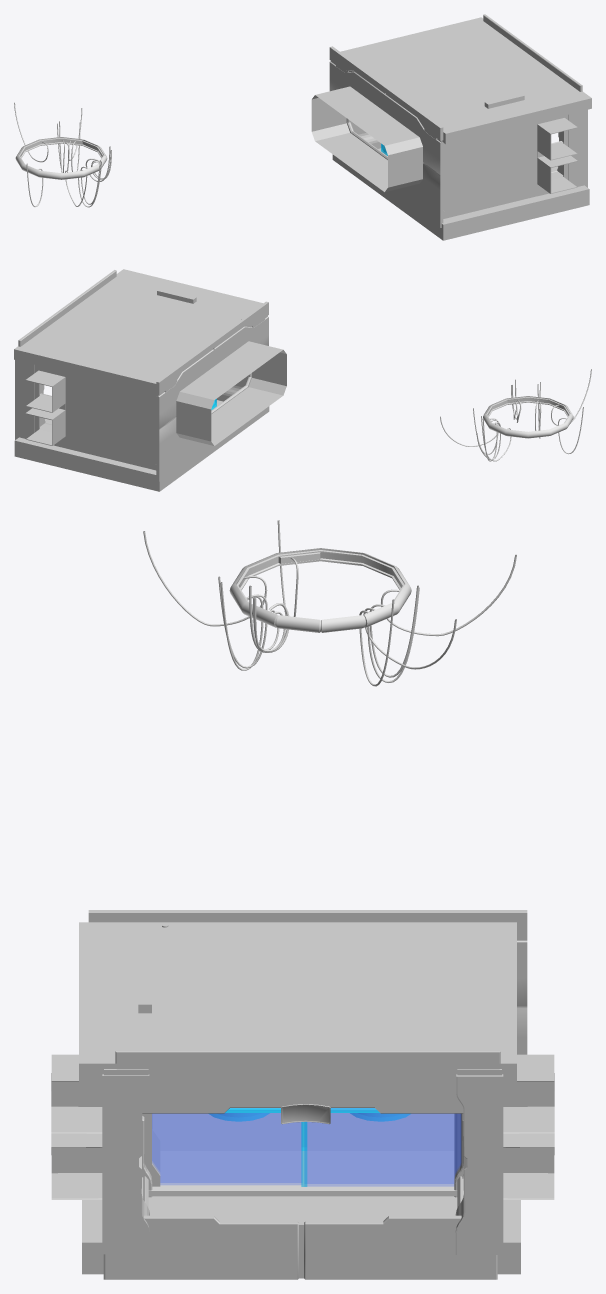
The model's file is Factory_basescene.fbx.
3 views of the same model, one above another, from view 1: azimuth 30°, elevation 25°; view 2: azimuth 150°, elevation 25°; view 3: azimuth 270°, elevation 25° (orthographic). The views are drawn at different scales.
Parts seen in each view (by area): view 1: Cube.004, Cube.007, Cube.005, Cube.003, Cube, Cube.013, Cube.033, Torus.001, Plane.001, Cube.020; view 2: Cube.004, Cube.001, Cube.005, Cube.003, Cube, Cube.021, Cube.032, Torus.001, Plane.001, Cube.020; view 3: Cube.004, Plane.002, Plane.001, Cube, Cube.016, Cube.009, Cube.011, Cube.032, Cube.033, Cube.021, Cube.013, Cube.003 (+2 smaller).
Part boxes in pixels (box(x1,y1,x2,y2)): Cube.004: box(340, 17, 591, 144); Cube.007: box(424, 122, 537, 218); Cube.005: box(311, 86, 423, 192); Cube.003: box(329, 46, 444, 227); Cube: box(332, 148, 589, 240); Cube.013: box(537, 114, 577, 196); Cube.033: box(557, 109, 587, 187); Torus.001: box(15, 137, 107, 179); Plane.001: box(483, 14, 582, 91); Cube.020: box(484, 93, 524, 108); Cube.004: box(14, 269, 262, 394); Cube.001: box(65, 372, 177, 470); Cube.005: box(176, 341, 286, 445); Cube.003: box(155, 301, 268, 481); Cube: box(14, 400, 269, 491); Cube.021: box(25, 365, 65, 448); Cube.032: box(15, 360, 45, 439); Torus.001: box(483, 396, 573, 438); Plane.001: box(18, 270, 116, 346); Cube.020: box(157, 288, 196, 303); Cube.004: box(79, 922, 516, 1084); Plane.002: box(103, 1215, 497, 1279); Plane.001: box(115, 1049, 500, 1113); Cube: box(82, 1108, 520, 1274); Cube.016: box(148, 1151, 457, 1196); Cube.009: box(304, 1111, 461, 1186); Cube.011: box(152, 1109, 302, 1184); Cube.032: box(455, 1074, 503, 1254); Cube.033: box(102, 1074, 149, 1254); Cube.021: box(457, 1054, 554, 1207); Cube.013: box(51, 1054, 148, 1207); Cube.003: box(88, 910, 527, 1054).
Bounding box in the file's own units: 1201 × 309 × 510.
